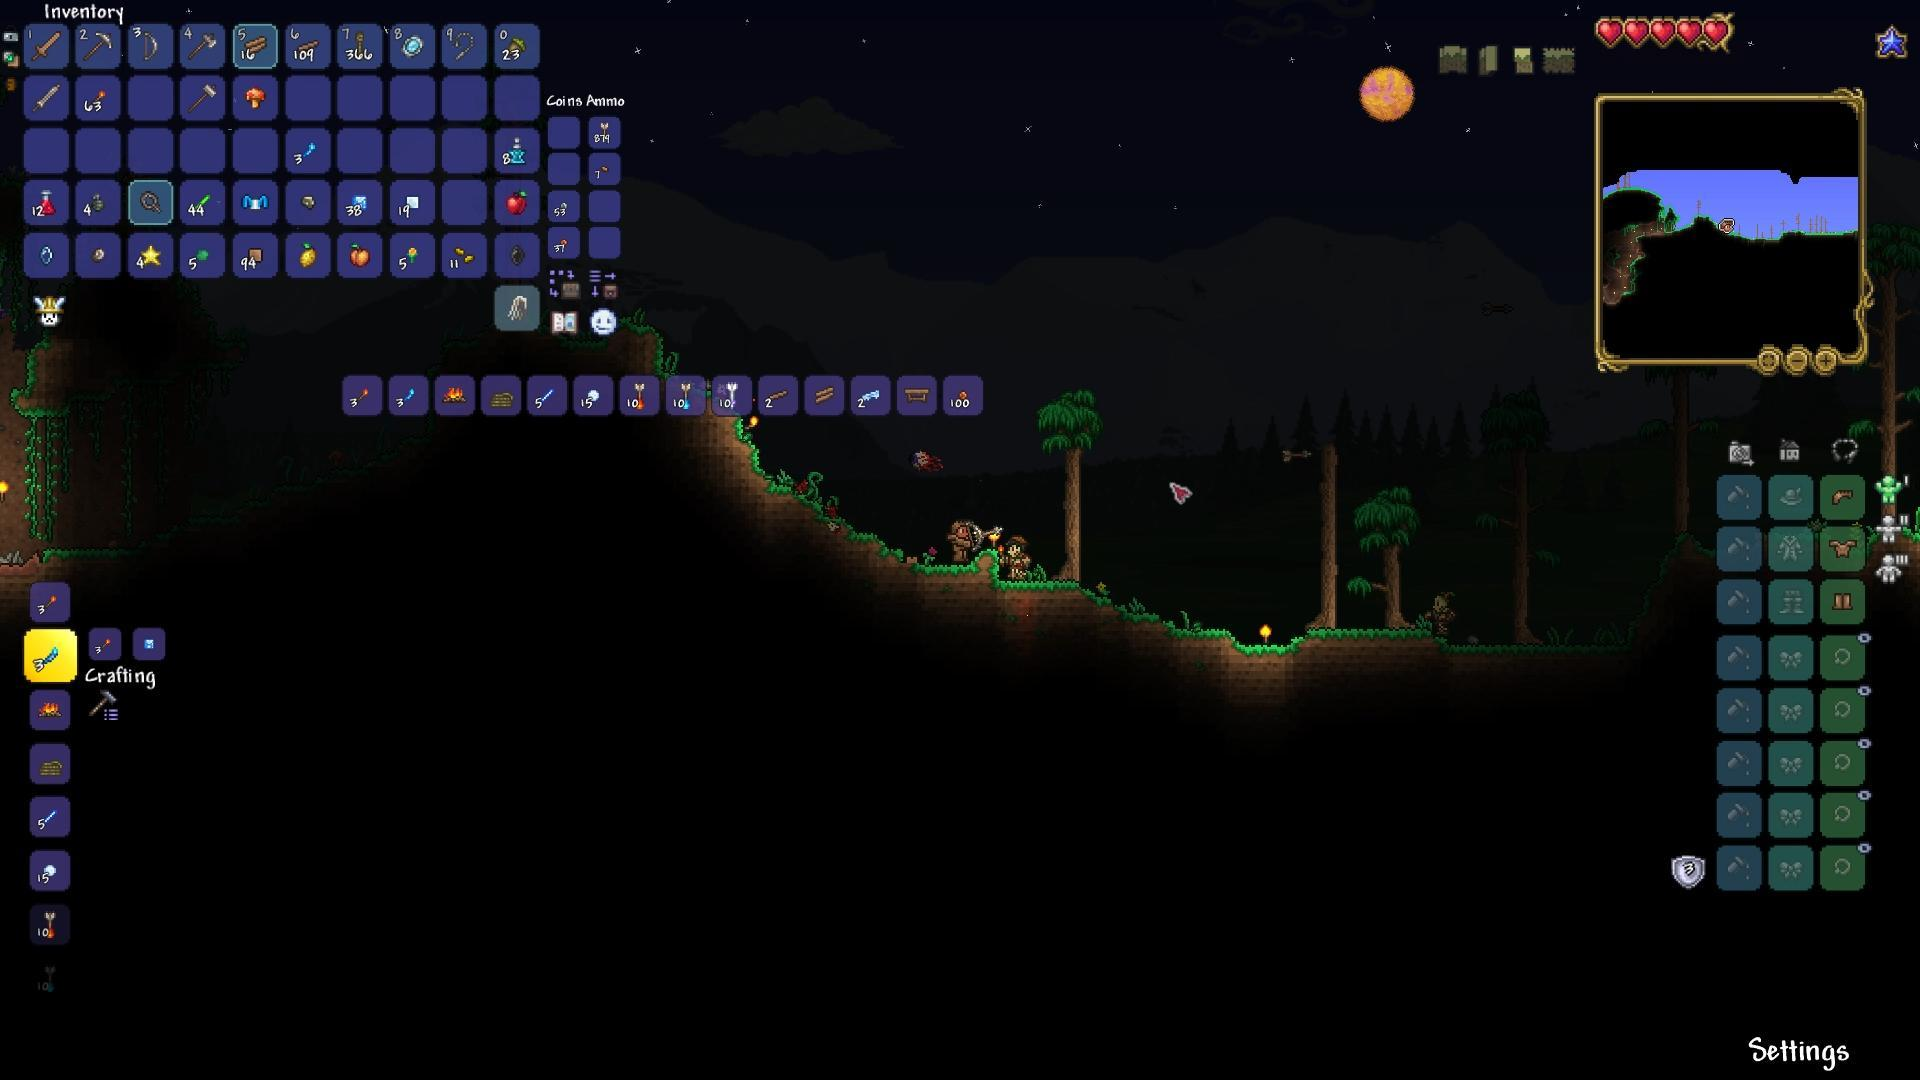eye: (910, 447, 948, 477)
grenade: (86, 187, 105, 215)
potion: (36, 183, 61, 218)
recallP: (502, 135, 530, 170)
star: (137, 244, 169, 269)
